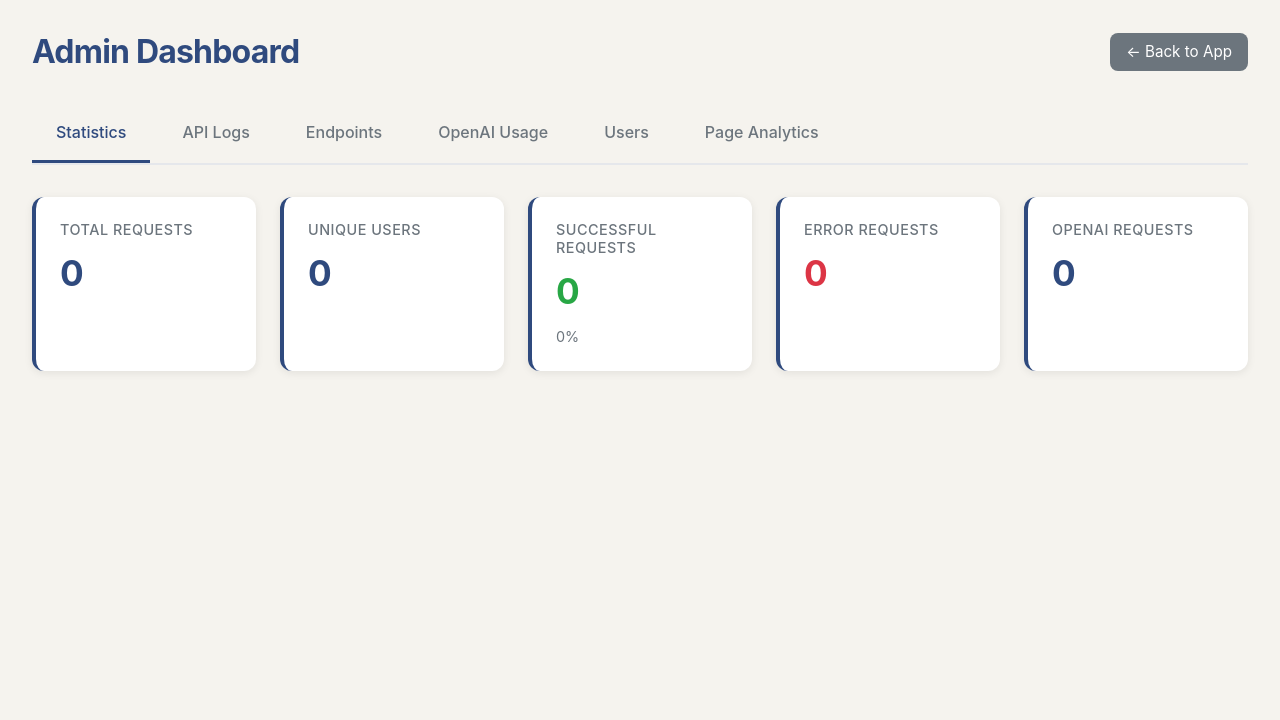
AdminDashboard.vue › Users Tab › views user detail when view button is clicked
This screenshot has width=1280, height=720.
Step 1. Click the button "Users" → (627, 134), box 580,104 -> 673,163
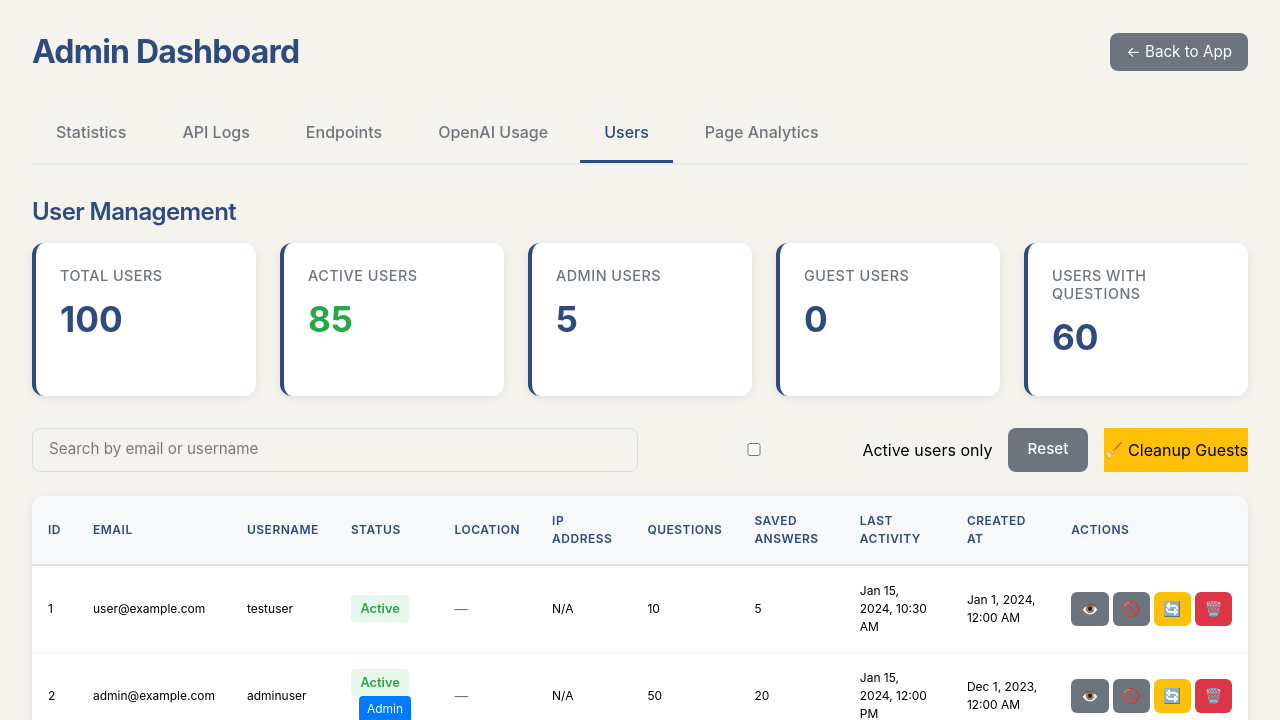
Step 2. Click the button titled "View Details" in the row of "user@example.com" → (1090, 609), box 1071,592 -> 1108,626
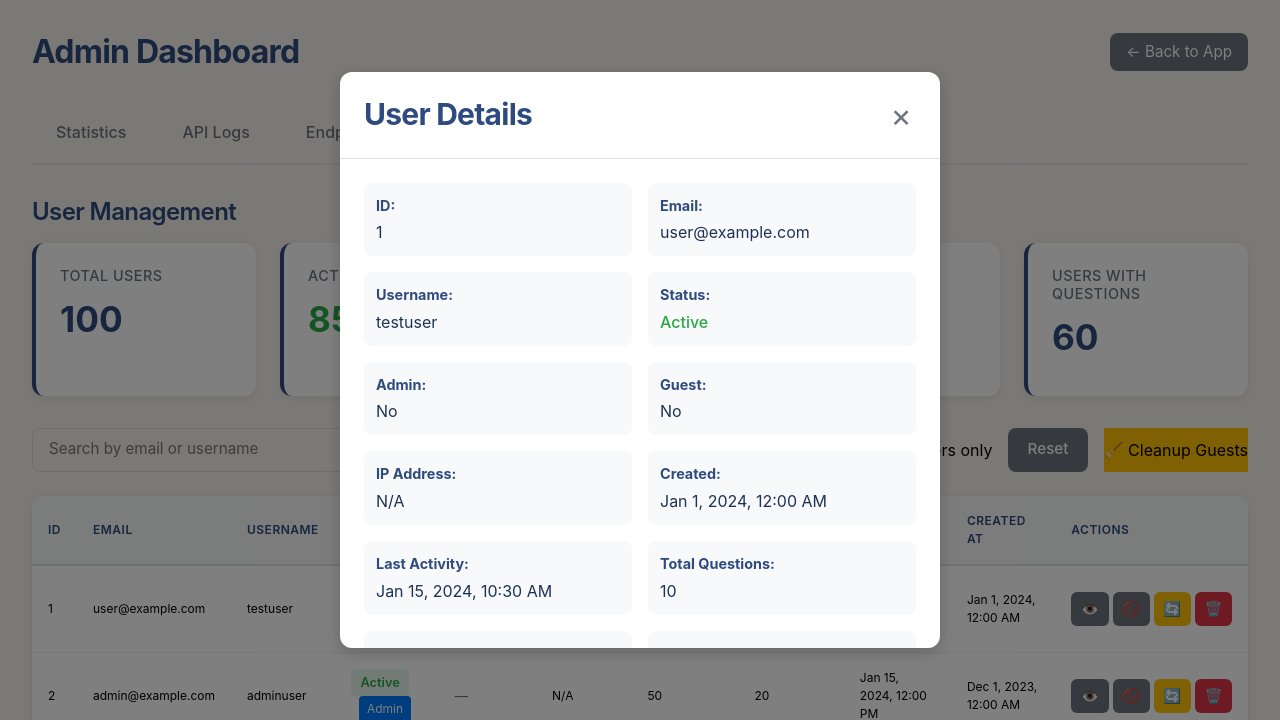
Result: the element with class "modal-overlay" is shown
